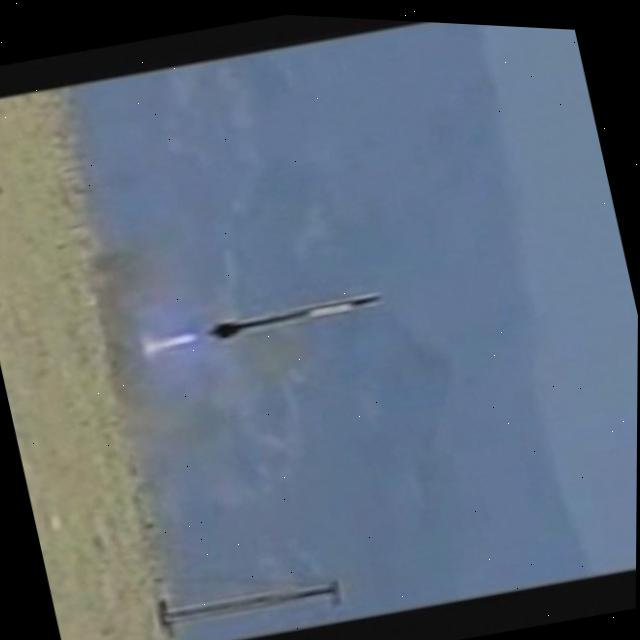missile: (193, 271, 394, 362)
